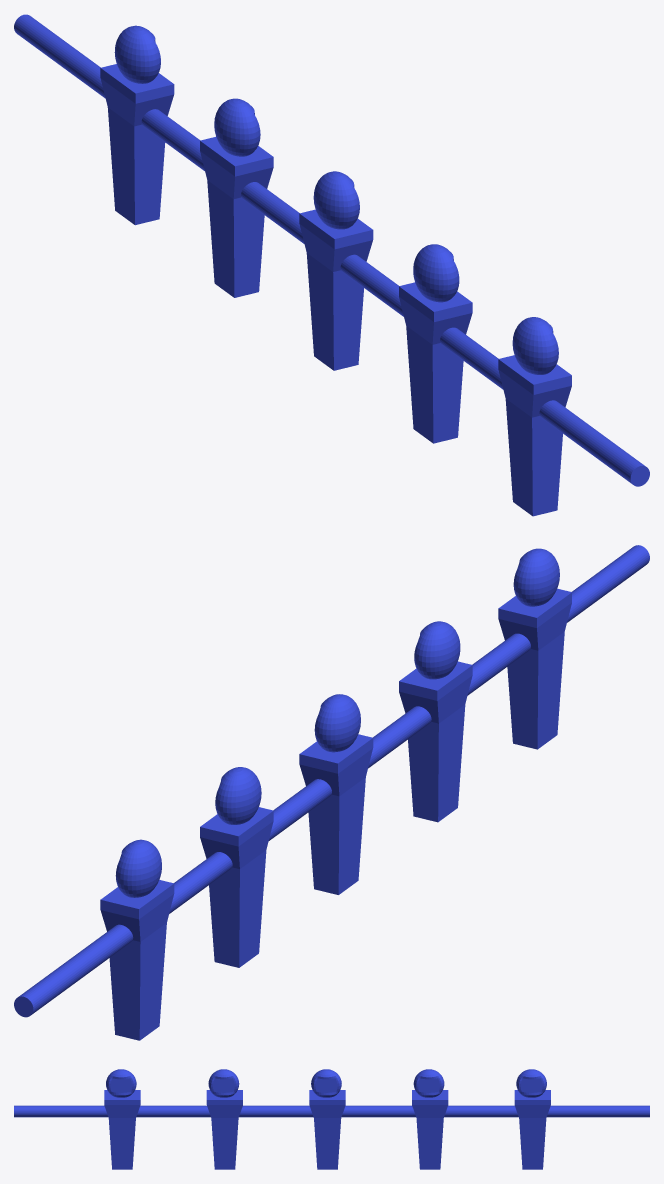
The model's file is Player_A3.glb.
3 renders of one model, top to bottom at view 1: azimuth 30°, elevation 25°; view 2: azimuth 150°, elevation 25°; view 3: azimuth 270°, elevation 25°, orthographic. The views are drawn at different scales.
Visible parts, largest first — view 1: Player_A3; view 2: Player_A3; view 3: Player_A3.
Boxes of the visible parts, bbox=[...] form: Player_A3: bbox=[14, 14, 649, 516]; Player_A3: bbox=[14, 545, 649, 1040]; Player_A3: bbox=[14, 1069, 649, 1169].
Bounding box in the file's own units: 1.57 × 7.28 × 43.39.
